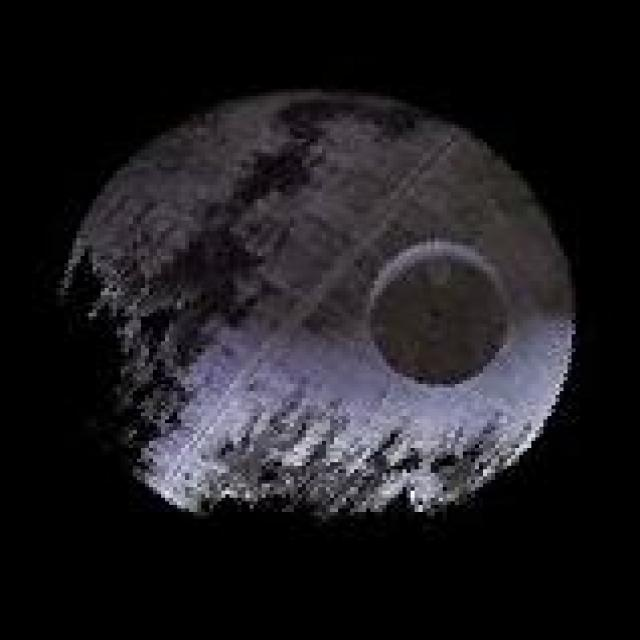Death Star: (48, 82, 584, 526)
